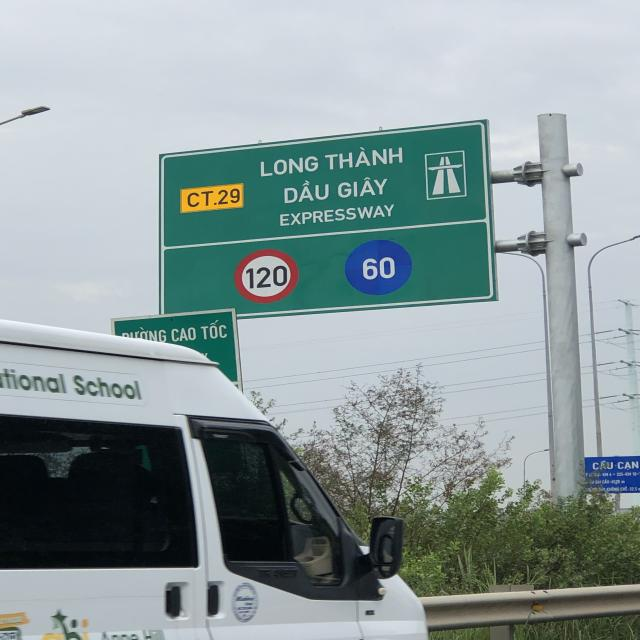Bien bao toc do toi thieu cho phep: (341, 236, 415, 298)
